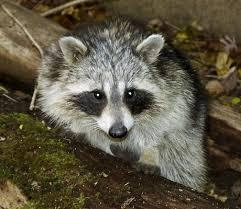raccoon: (30, 8, 218, 202)
